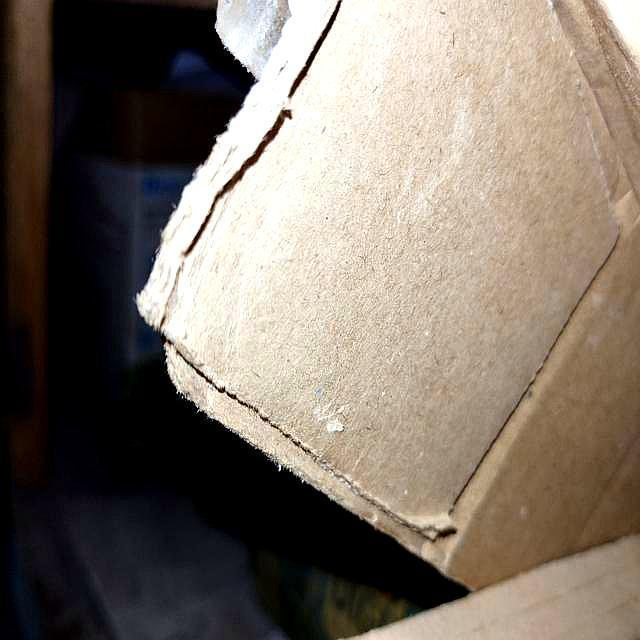Biodegradable: (139, 1, 640, 640)
